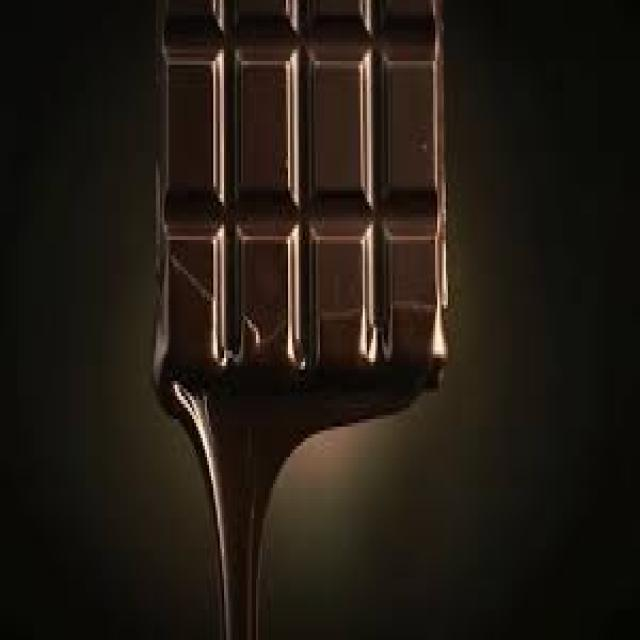Chocolate: (151, 0, 448, 392)
